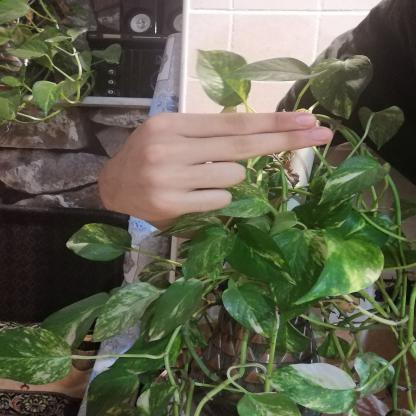AYN: (78, 97, 350, 238)
